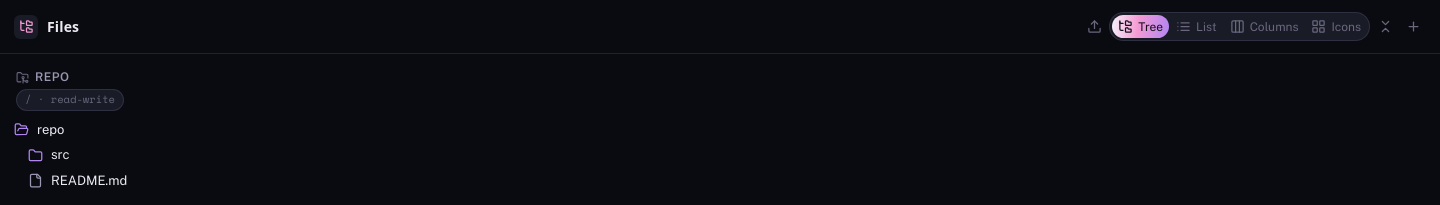
Test: columns layout › lists mounts then drills folder → folder into a focus path
Expected: the text "src" is shown, [51, 147, 70, 162]
Click the radio button with aria-label "column view" at (1264, 26), box [1224, 15, 1304, 38]
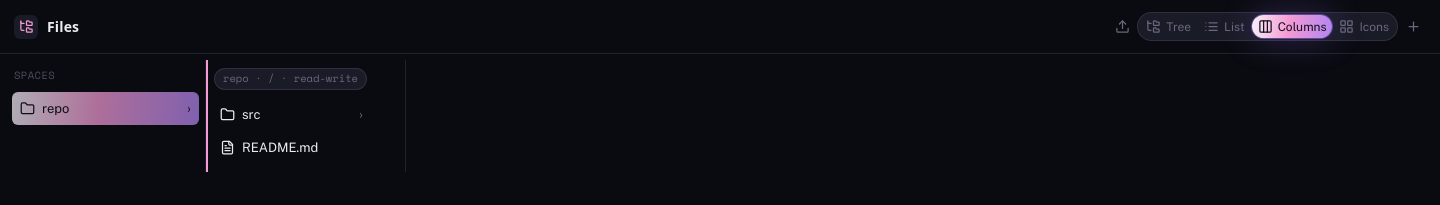
Click the option "src ›" at (228, 114), box [220, 106, 363, 122]
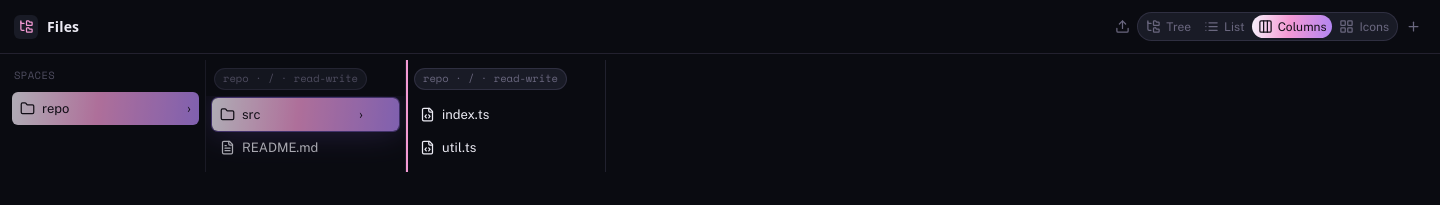
Expected: the option "index.ts" is shown, [420, 106, 489, 122]
